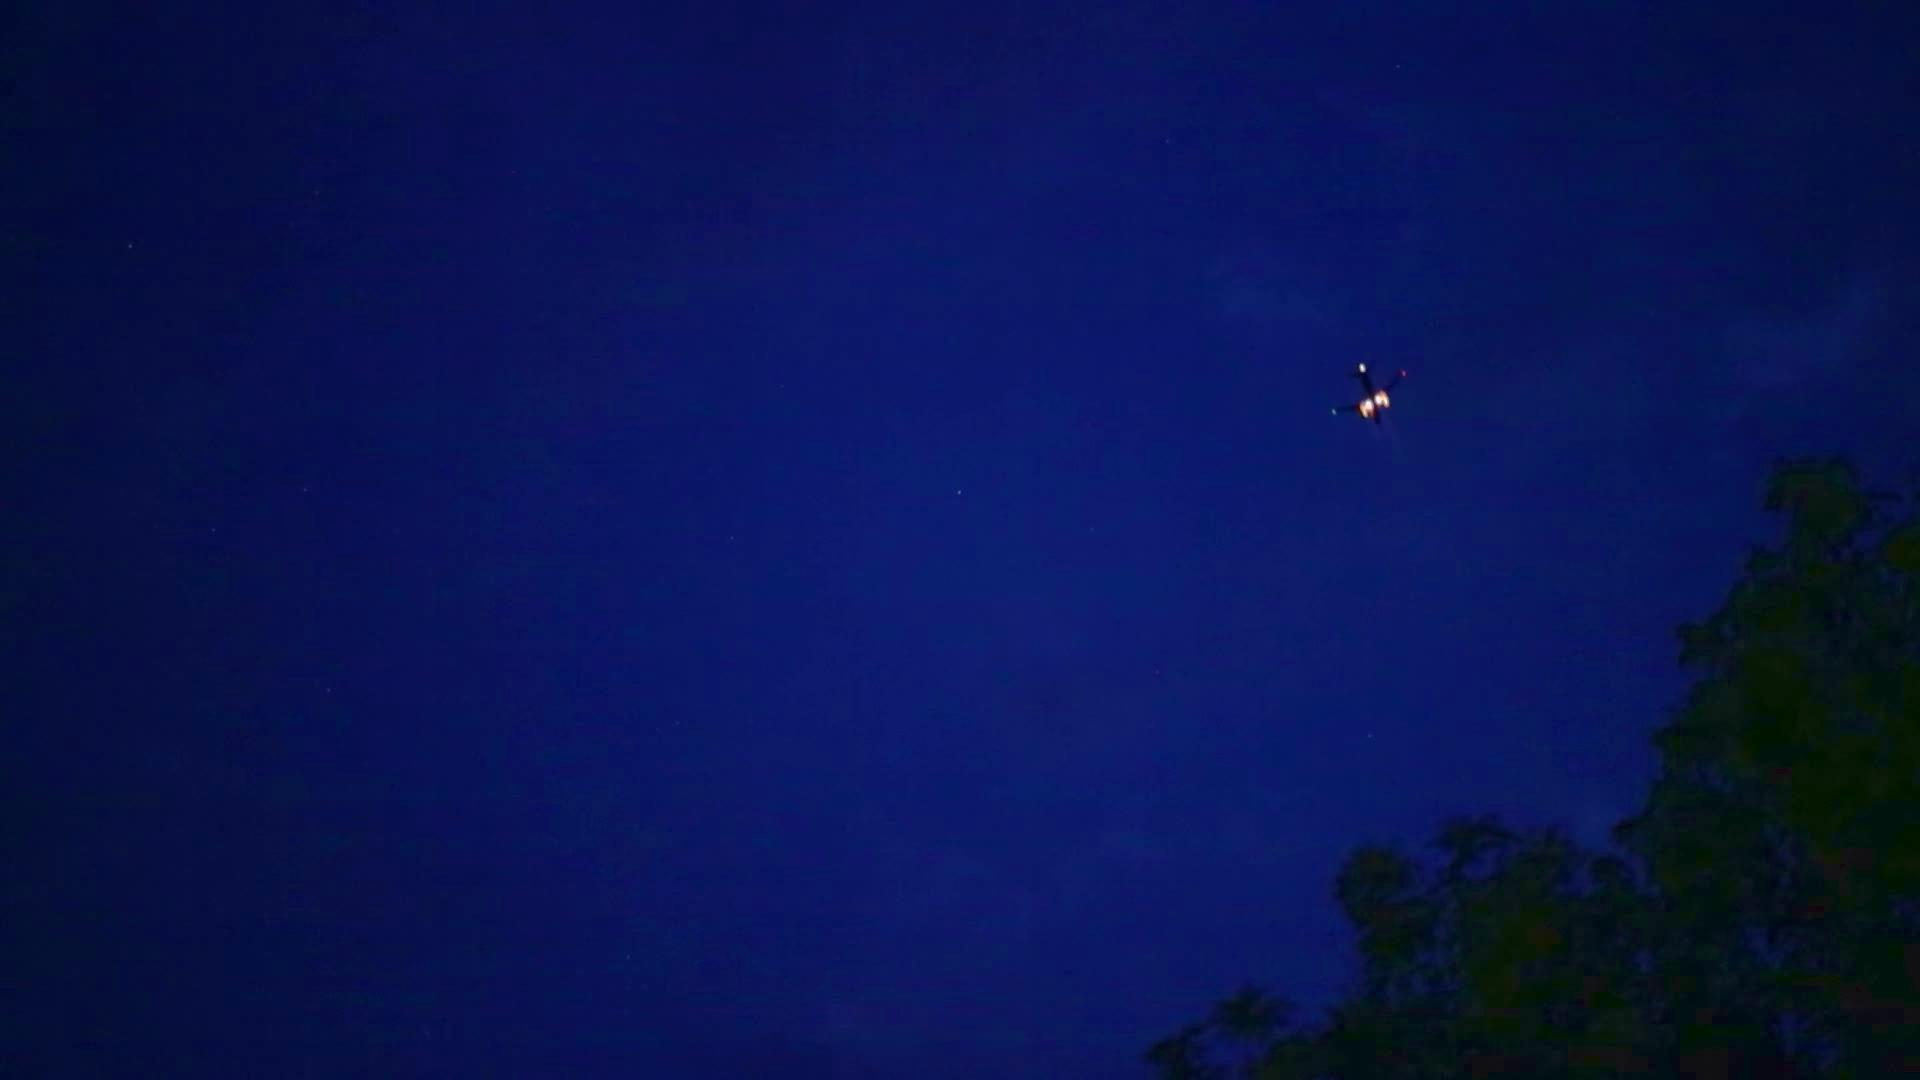Plane: (1324, 348, 1416, 436)
